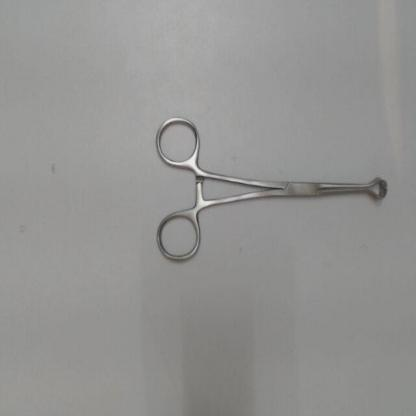Babcock Tissue Forceps: (152, 110, 390, 268)
